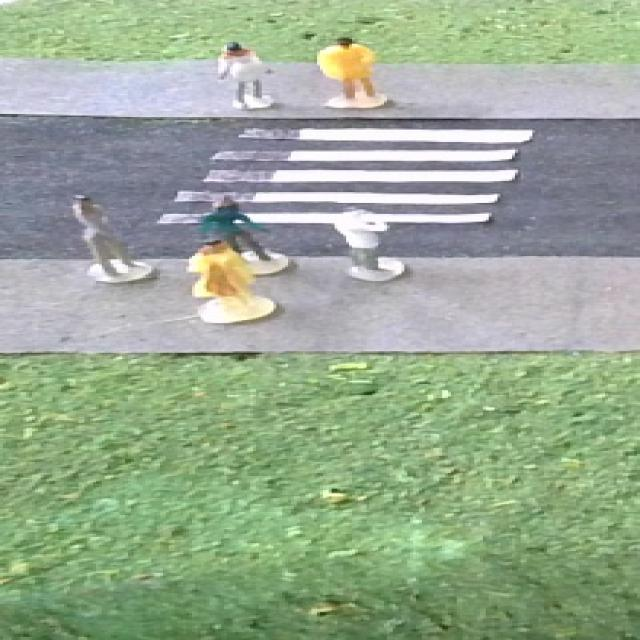person: (184, 241, 282, 322), (67, 192, 150, 282), (325, 203, 395, 283), (317, 36, 392, 108), (214, 40, 277, 110), (187, 193, 277, 240)
